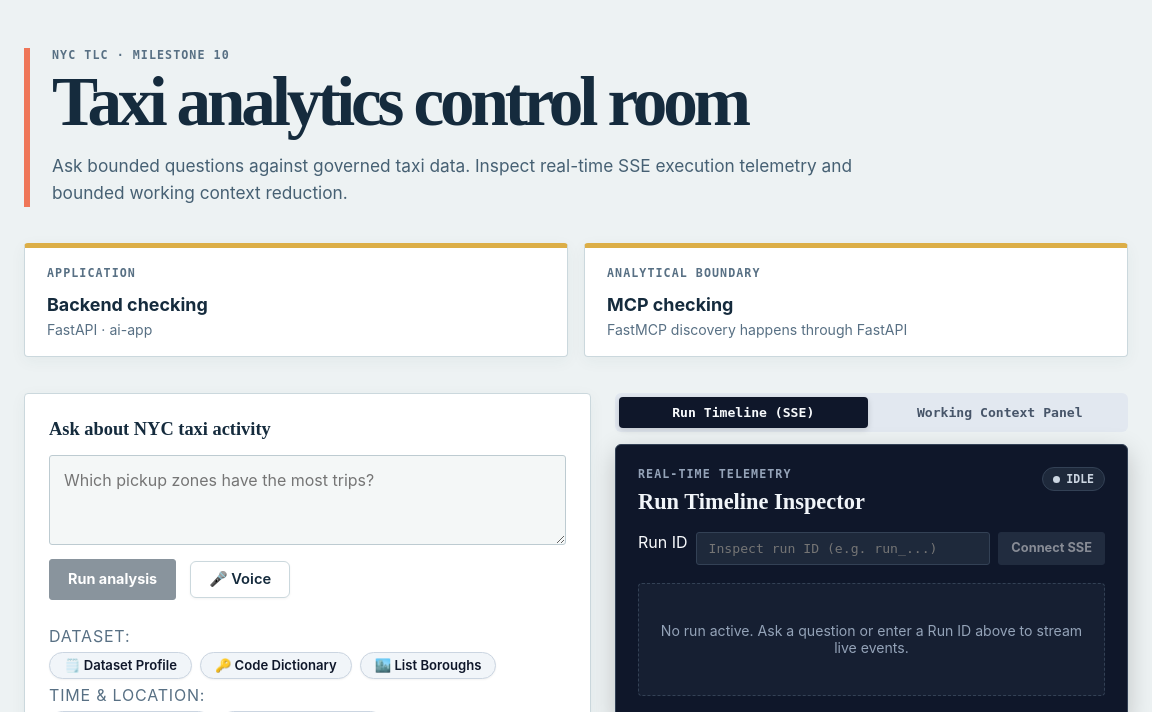
Test: App › keeps same-run SSE telemetry when the post-ask snapshot resolves later
Type "Preserve telemetry" into the text box labelled "Ask about NYC taxi activity".
click(308, 500); type("Preserve telemetry")  # box [49,456,566,546]
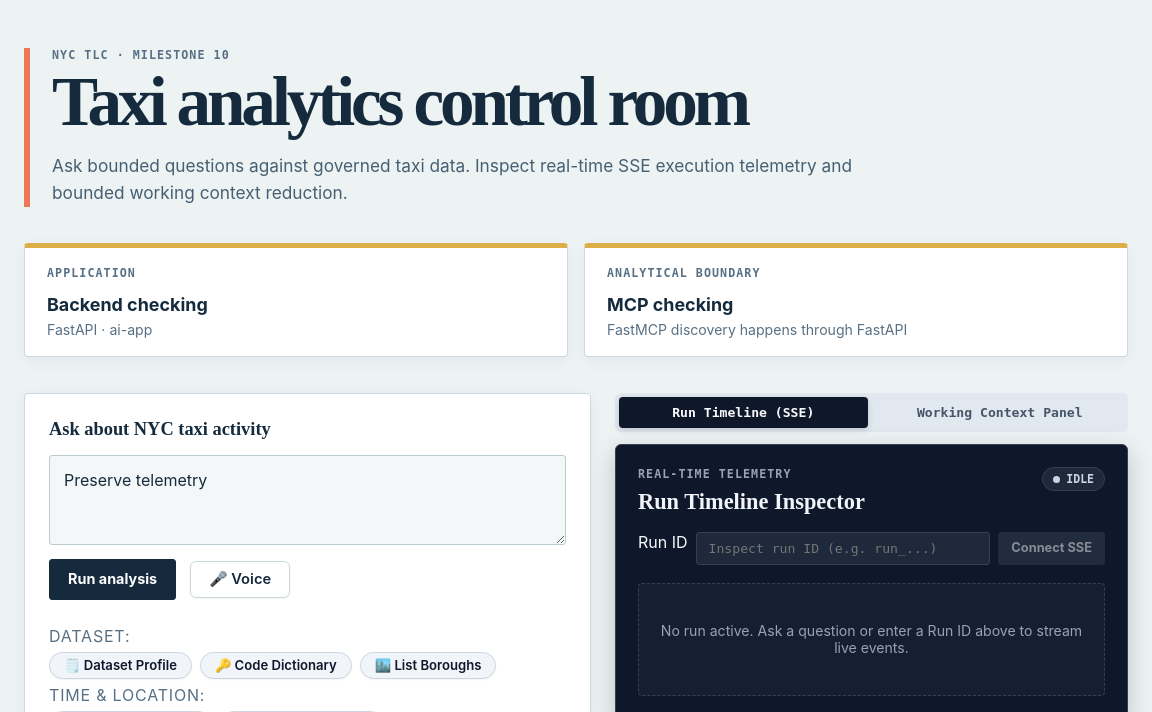
Click the button "Run analysis".
click(113, 580)  # box [49,560,176,600]
(page scrolled)
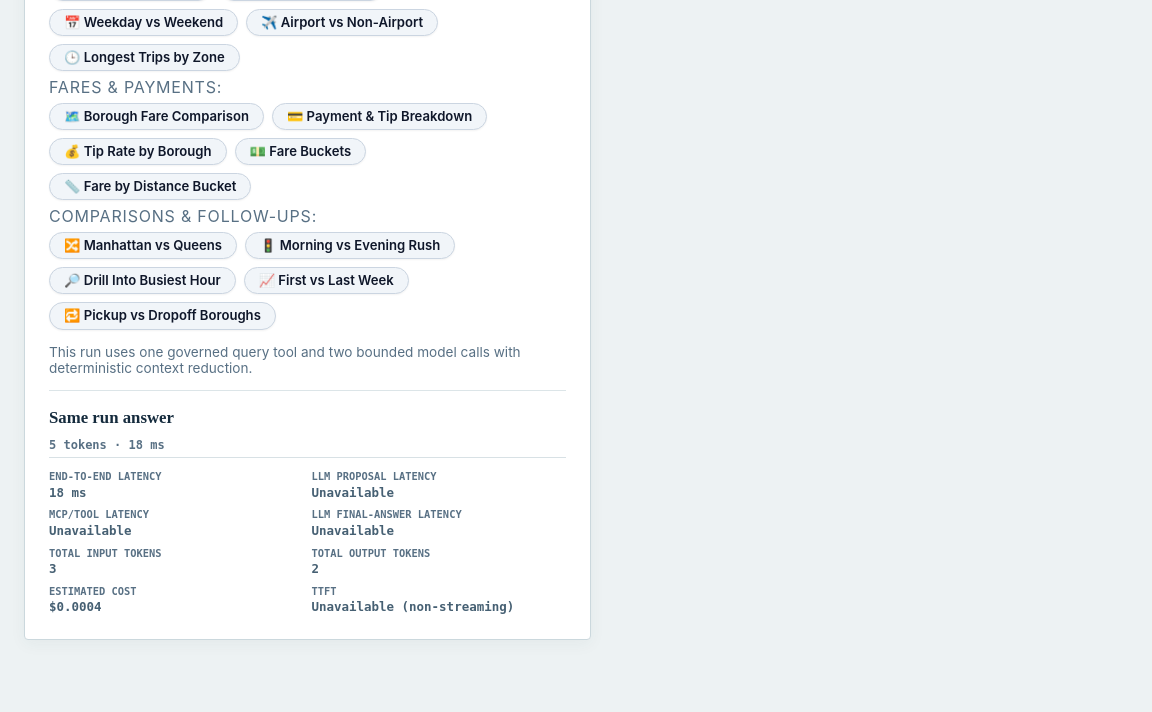
Expected: the text "18 ms" is shown, [49,485,86,500]
Expected: the text "$0.0004" is shown, [49,599,102,614]
